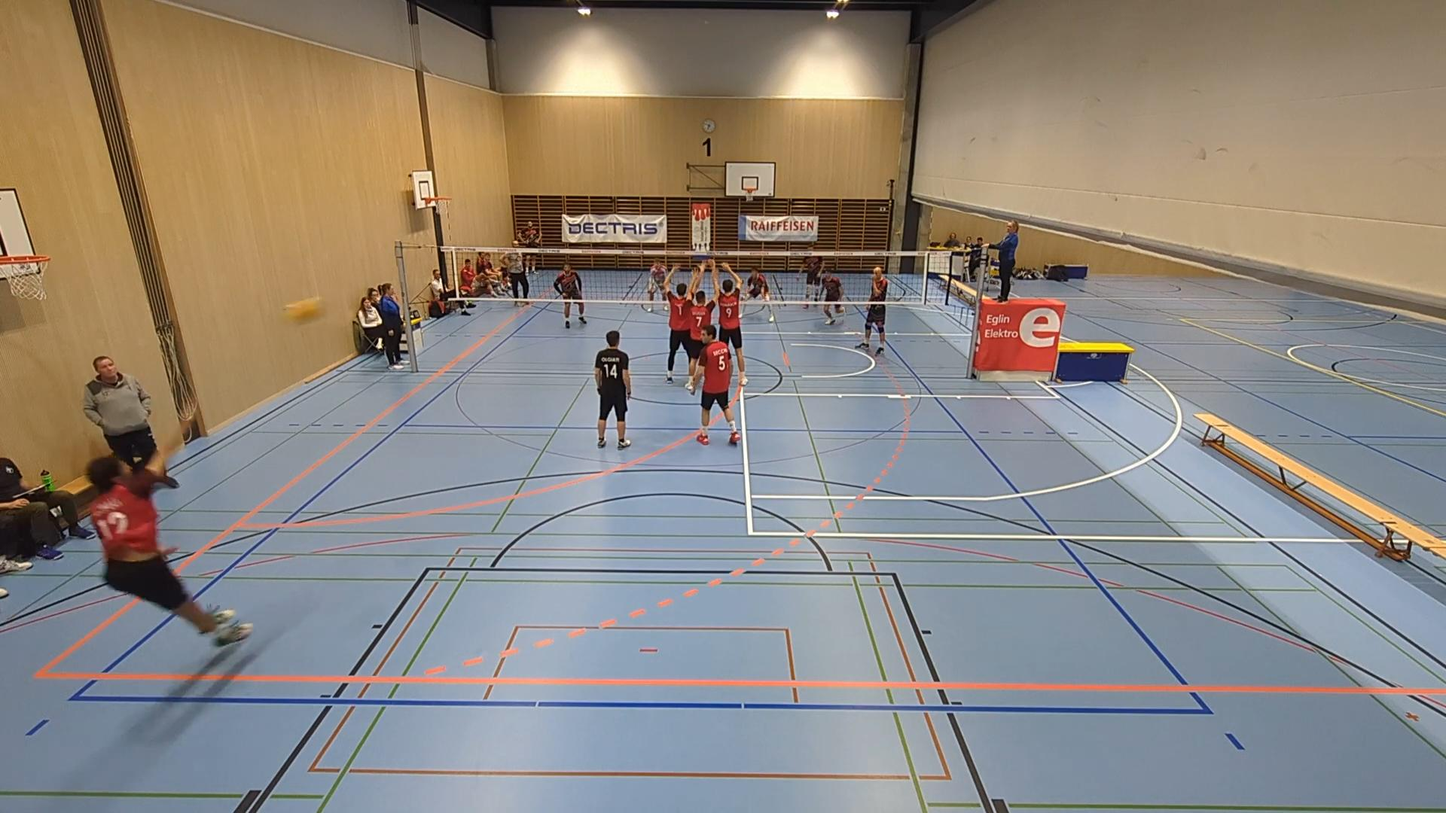Player: (697, 325, 740, 444), (595, 330, 630, 449), (713, 262, 746, 385), (686, 260, 716, 394), (663, 266, 691, 382), (858, 266, 888, 355), (554, 262, 586, 327), (747, 266, 774, 320), (644, 260, 667, 312), (821, 270, 843, 324), (802, 256, 822, 307)
Serve: (66, 395, 251, 652)
ball: (277, 289, 333, 327)
